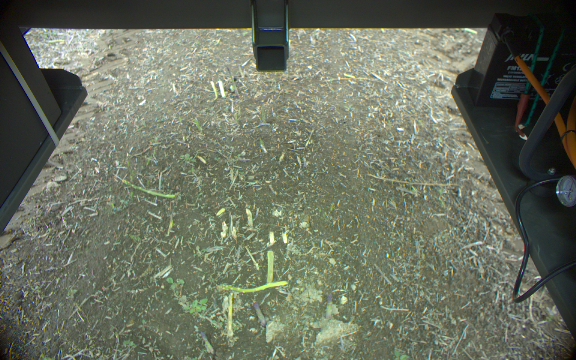aspa: (112, 173, 175, 201), (213, 277, 288, 290), (221, 290, 236, 338), (251, 300, 267, 330), (197, 330, 216, 355), (225, 67, 240, 97), (320, 292, 335, 321), (263, 250, 274, 282), (215, 79, 226, 100), (209, 80, 217, 101)
